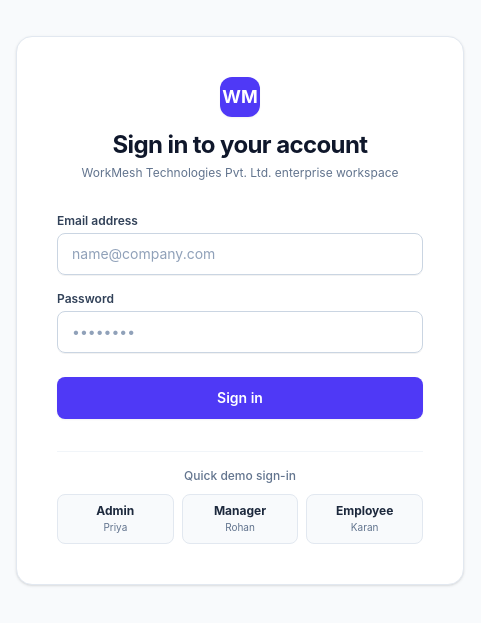
Test case: Authentication & Protected Routes › shows validation errors when fields are empty
This screenshot has width=481, height=623.
Click the button "Sign in".
click(240, 398)  # box left=57, top=376, right=423, bottom=418
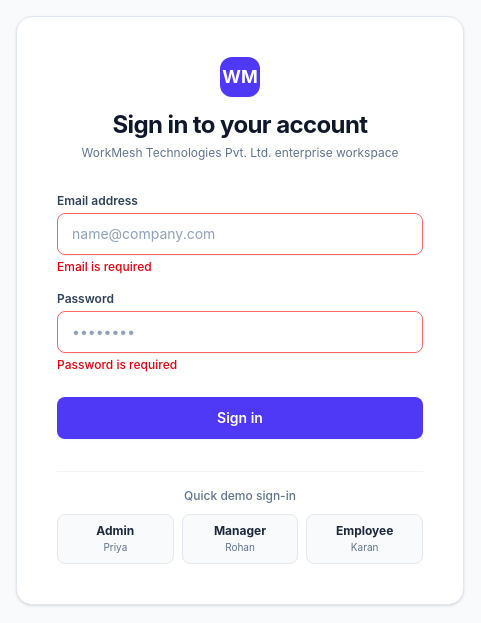
Now the text "Email is required" is shown, box left=57, top=258, right=152, bottom=274
Now the text "Password is required" is shown, box left=57, top=356, right=177, bottom=372
